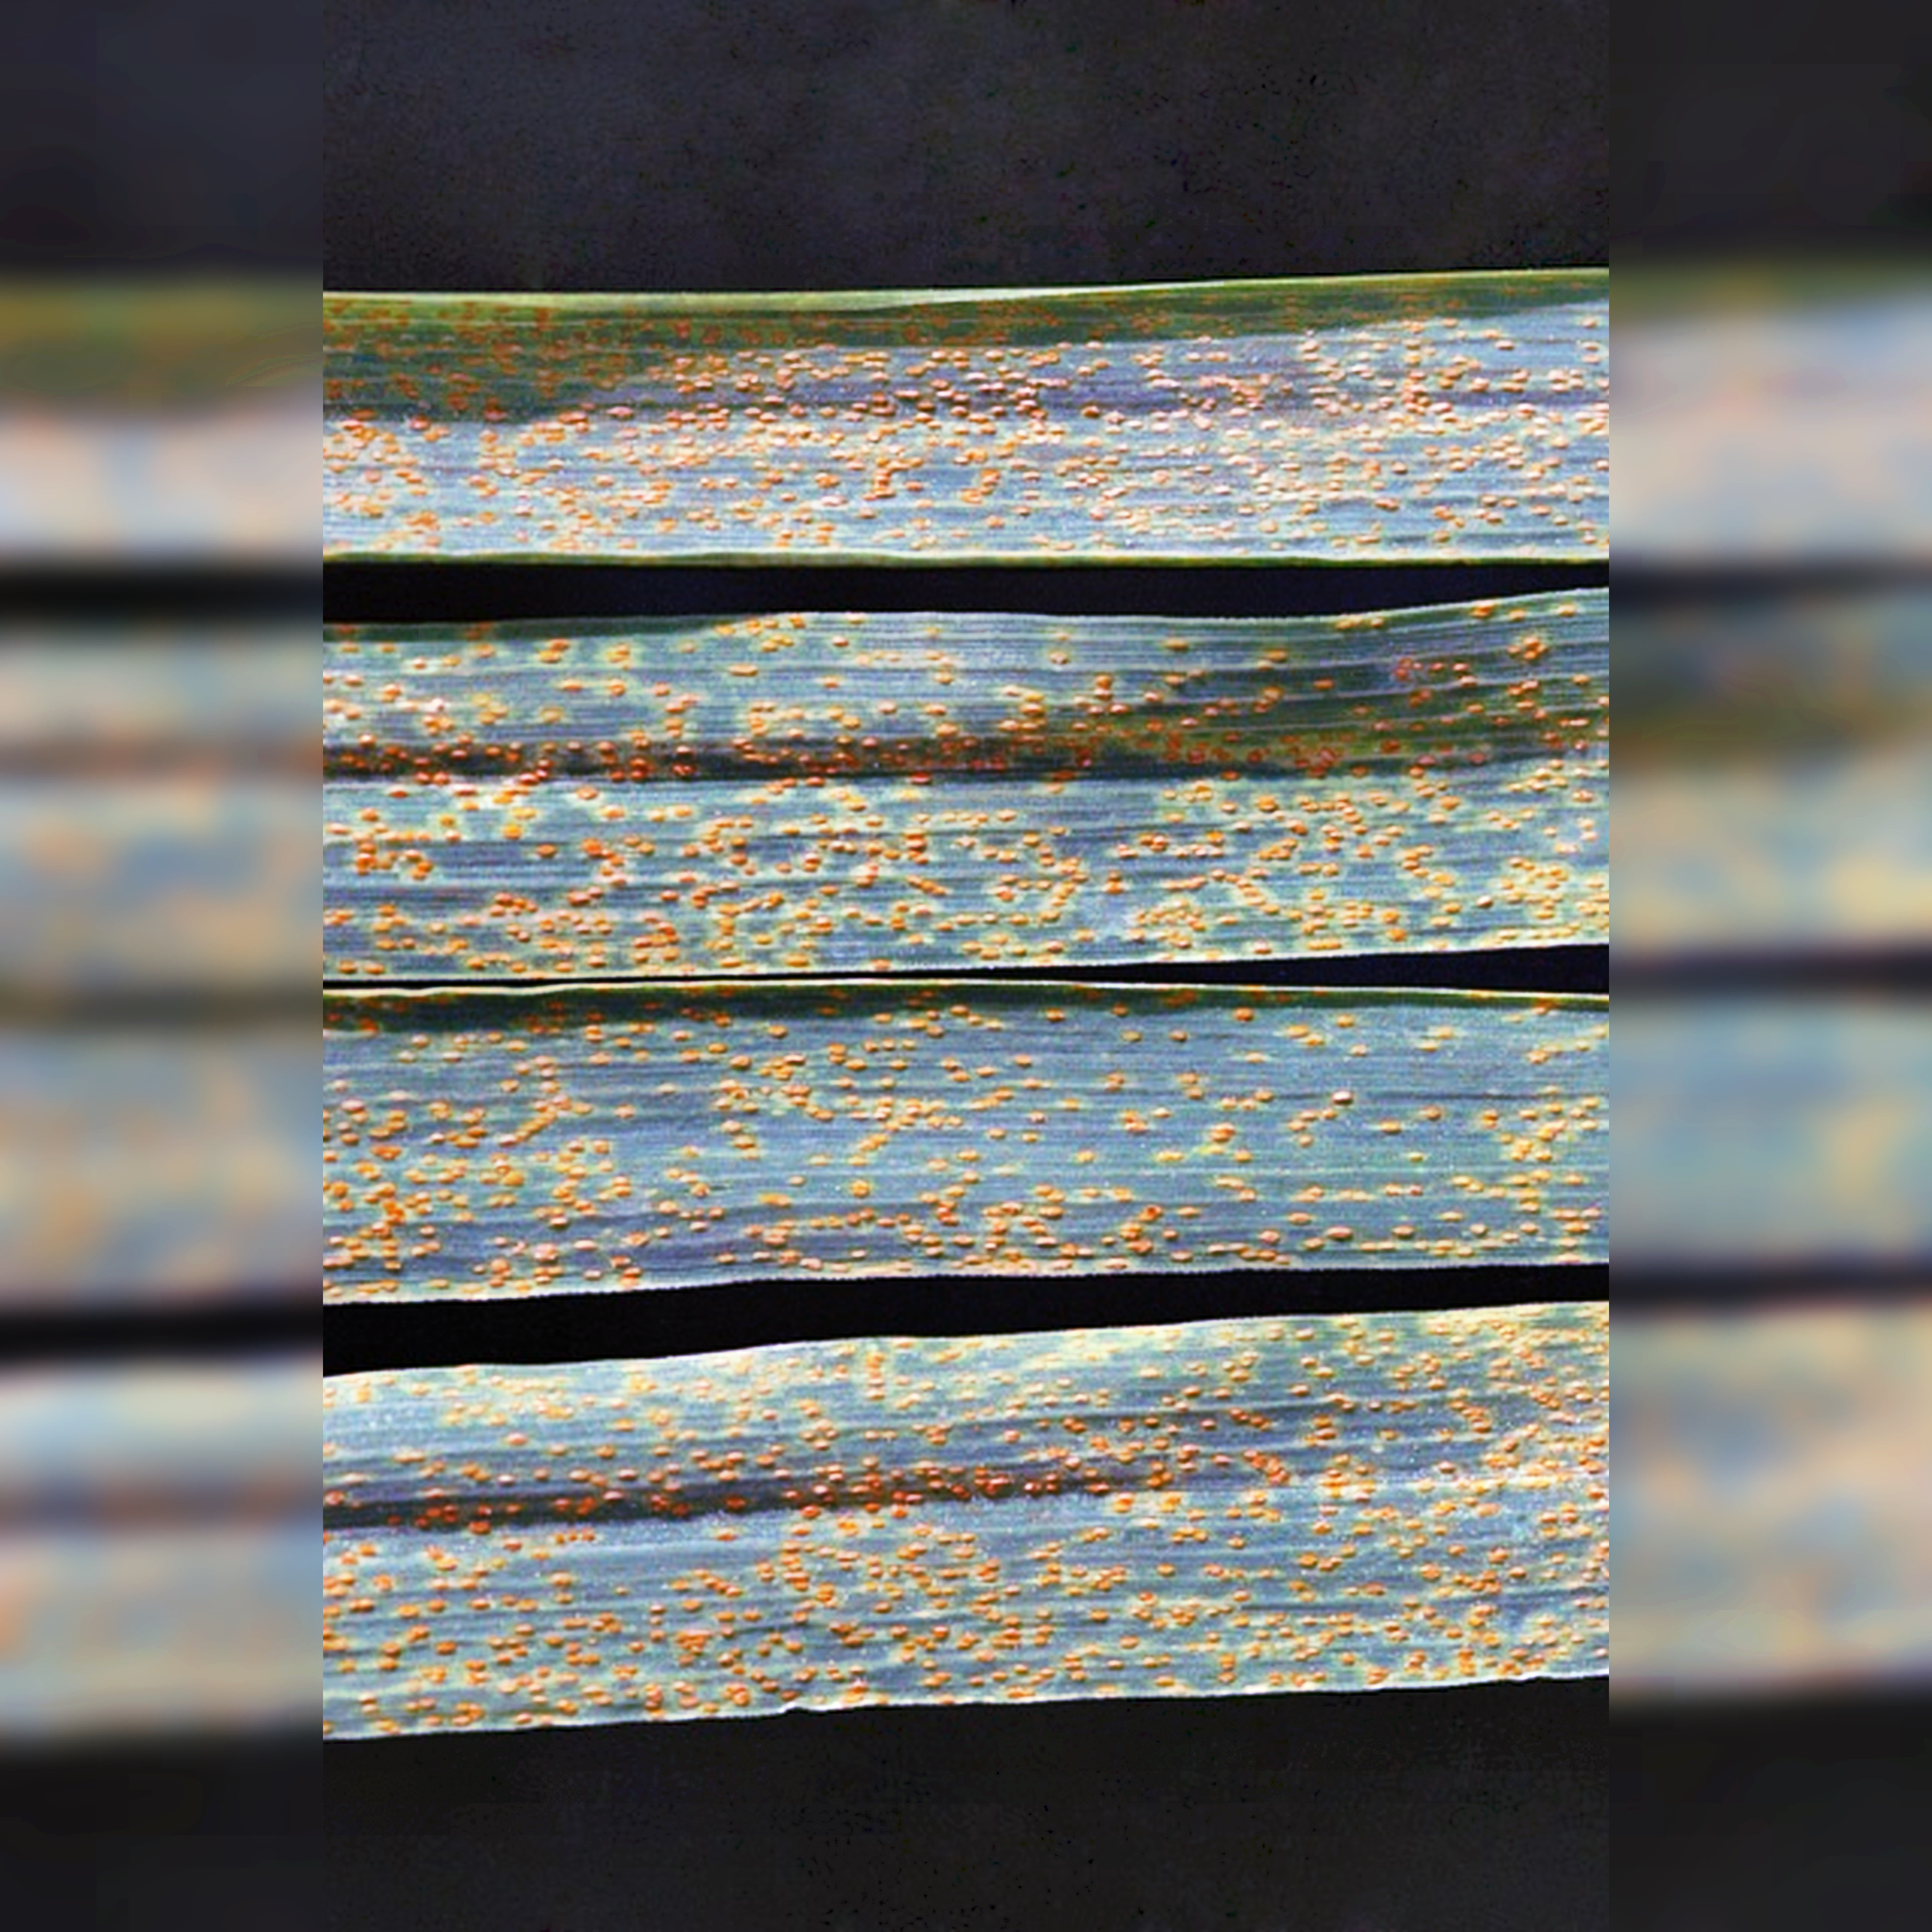Leaf Rust: (322, 1341, 1633, 1714), (338, 626, 1612, 978), (340, 299, 1612, 598), (324, 1010, 1605, 1277)
